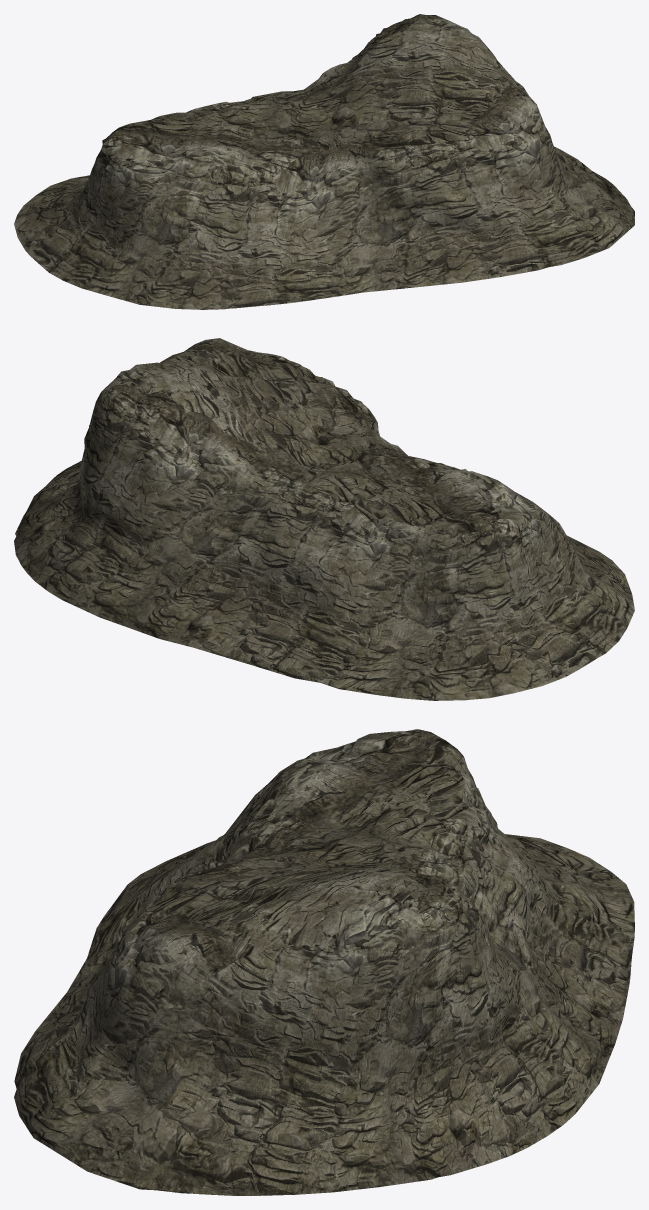
Rendered from MEP_Cliff_16.fbx.
The picture shows the model from 3 angles, top to bottom: view 1: azimuth 30°, elevation 25°; view 2: azimuth 150°, elevation 25°; view 3: azimuth 270°, elevation 25°; orthographic projection. The views are drawn at different scales.
Visible parts, largest first — view 1: MEP_Desert_Cliff_16; view 2: MEP_Desert_Cliff_16; view 3: MEP_Desert_Cliff_16.
Part boxes in pixels (<box>): MEP_Desert_Cliff_16: <box>14,14,634,309</box>; MEP_Desert_Cliff_16: <box>14,338,634,700</box>; MEP_Desert_Cliff_16: <box>14,729,634,1195</box>.
Size of what is drawn, in the model's own units: 7141 by 2010 by 5093.
Materials: 1 (1 with a texture image).
